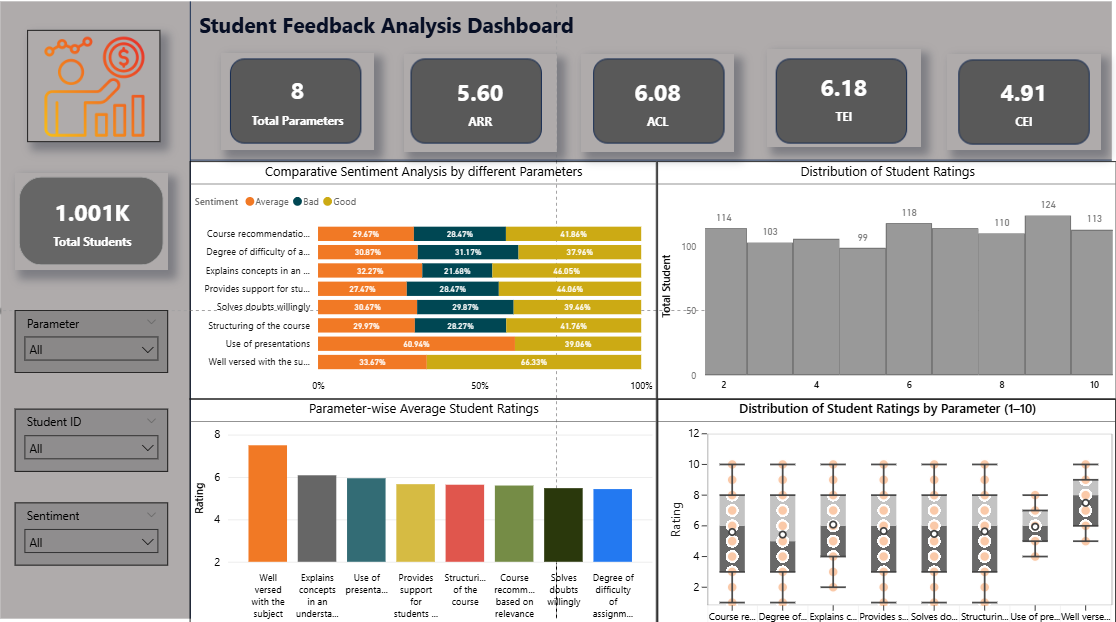

The dashboard page shown, as its layout file describes it:
{"tool":"powerbi","page":{"name":"Dashboard","canvas":[1280,720],"ordinal":4},"visuals":[{"type":"image","box":[0,0,1280,720],"z":0},{"type":"hundredPercentStackedBarChart","title":"Comparative Sentiment Analysis by different Parameters","fields":{"Category":["student_feedback.Parameter"],"Series":["student_feedback.Sentiment"],"Y":["CountNonNull(student_feedback.Student ID)"]},"box":[221.7,190,533.3,271.7],"z":1},{"type":"clusteredColumnChart","title":"Parameter-wise Average Student Ratings","fields":{"Category":["student_feedback.Parameter"],"Y":["Avg(student_feedback.Rating)"]},"box":[221.7,461.7,533.3,258.3],"z":2},{"type":"clusteredColumnChart","title":"Distribution of Student Ratings","fields":{"Category":["student_feedback.Rating (bins)"],"Y":["CountNonNull(student_feedback.Student ID)"]},"box":[755,190,525,271.7],"z":3},{"type":"BoxandWhiskerByMAQ1823AD39DT234AB532063E128AX","title":"Distribution of Student Ratings by Parameter (1–10)","fields":{"measure":["Avg(student_feedback.Rating)"],"categoryGroup":["student_feedback.Parameter"],"category":["student_feedback.Student ID"]},"box":[755,461.7,525,258.3],"z":4},{"type":"cardVisual","title":"Total Students","fields":{"Data":["Count(student_feedback.Student ID)"]},"box":[21.7,203.3,175,111.7],"z":5},{"type":"cardVisual","title":"Total Students","fields":{"Data":["Count(student_feedback.Parameter)"]},"box":[256.7,65,175,111.7],"z":6},{"type":"cardVisual","title":"Total Students","fields":{"Data":["Avg(student_feedback.Rating)"]},"box":[668.3,66.7,175,111.7],"z":7},{"type":"cardVisual","title":"Total Students","fields":{"Data":["student_feedback.TEI"]},"box":[881.7,61.7,175,111.7],"z":9},{"type":"cardVisual","title":"Total Students","fields":{"Data":["student_feedback.CEI"]},"box":[1086.7,66.7,175,110],"z":10},{"type":"cardVisual","title":"Total Students","fields":{"Data":["Avg(student_feedback.Rating)"]},"box":[465,66.7,175,111.7],"z":11},{"type":"slicer","fields":{"Values":["student_feedback.Parameter"]},"box":[21.7,360,175,71.7],"z":12},{"type":"slicer","fields":{"Values":["student_feedback.Student ID"]},"box":[21.7,473.3,175,71.7],"z":13},{"type":"slicer","fields":{"Values":["student_feedback.Sentiment"]},"box":[21.7,580,175,71.7],"z":14},{"type":"textbox","box":[226.7,13.3,440,53.3],"z":15},{"type":"image","box":[35,40,151.7,128.3],"z":16}]}

Visuals, with their boxes in screenshot pixels (x1, y1, x2, y2), scaled from the page's 1280x720 canvas onto the 1116x622 screenshot:
image: pyautogui.locateOnScreen(0, 0, 1115, 621)
"Comparative Sentiment Analysis by different Parameters" hundredPercentStackedBarChart: pyautogui.locateOnScreen(193, 164, 658, 399)
"Parameter-wise Average Student Ratings" clusteredColumnChart: pyautogui.locateOnScreen(193, 399, 658, 621)
"Distribution of Student Ratings" clusteredColumnChart: pyautogui.locateOnScreen(658, 164, 1115, 399)
"Distribution of Student Ratings by Parameter (1–10)" BoxandWhiskerByMAQ1823AD39DT234AB532063E128AX: pyautogui.locateOnScreen(658, 399, 1115, 621)
"Total Students" cardVisual: pyautogui.locateOnScreen(19, 176, 171, 272)
"Total Students" cardVisual: pyautogui.locateOnScreen(224, 56, 376, 153)
"Total Students" cardVisual: pyautogui.locateOnScreen(583, 58, 735, 154)
"Total Students" cardVisual: pyautogui.locateOnScreen(769, 53, 921, 150)
"Total Students" cardVisual: pyautogui.locateOnScreen(947, 58, 1100, 153)
"Total Students" cardVisual: pyautogui.locateOnScreen(405, 58, 558, 154)
slicer - student_feedback.Parameter: pyautogui.locateOnScreen(19, 311, 171, 373)
slicer - student_feedback.Student ID: pyautogui.locateOnScreen(19, 409, 171, 471)
slicer - student_feedback.Sentiment: pyautogui.locateOnScreen(19, 501, 171, 563)
textbox: pyautogui.locateOnScreen(198, 11, 581, 58)
image: pyautogui.locateOnScreen(31, 35, 163, 145)
